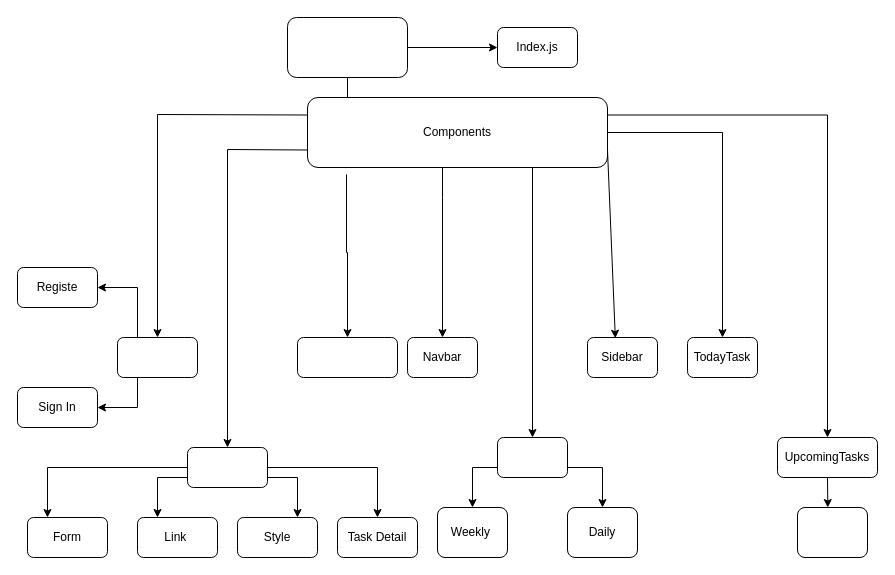
This 895x575 diagram has some shape labels left out. Each missing label, with the centre of its shape:
"Authentication" belongs at [157,357].
"Calendar" belongs at [832,532].
"Client" belongs at [347,47].
"Common" belongs at [227,467].
"Report" belongs at [532,457].
"UserGuide" belongs at [347,357].
